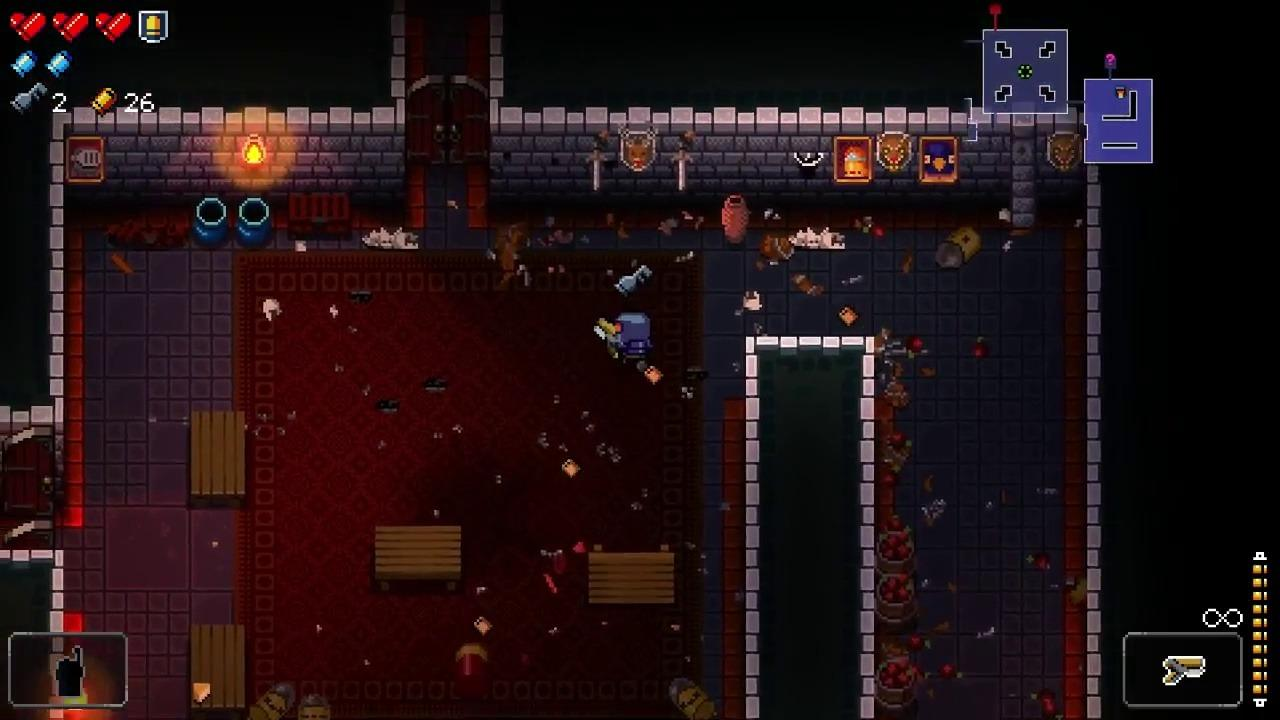dead_bullet_kin: (668, 676, 718, 720), (934, 225, 981, 267), (248, 682, 297, 720)
dead_red_shotgun_kin: (454, 641, 492, 696)
key: (614, 263, 653, 299)
player: (616, 310, 653, 363)
table: (374, 526, 461, 592), (190, 408, 247, 506), (189, 623, 246, 718), (588, 544, 675, 604)
unlocked_door: (404, 75, 490, 162), (2, 425, 56, 549)
